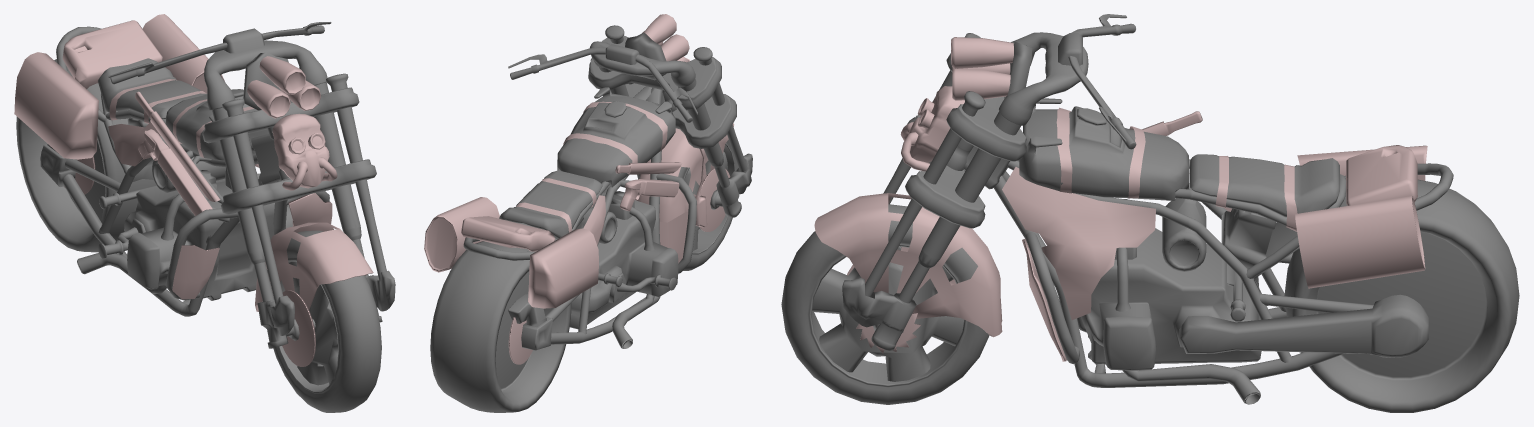
The model's file is motorcycle.glb.
The picture shows the model from 3 angles, left to right: view 1: azimuth 30°, elevation 25°; view 2: azimuth 150°, elevation 25°; view 3: azimuth 270°, elevation 25°; orthographic projection. The views are drawn at different scales.
Parts seen in each view (by area): view 1: polySurface250_lambert1_0, polySurface193_blinn1_0; view 2: polySurface250_lambert1_0, polySurface193_blinn1_0; view 3: polySurface250_lambert1_0, polySurface193_blinn1_0.
Boxes of the visible parts, bbox=[...] form: polySurface250_lambert1_0: bbox=[16, 22, 395, 412]; polySurface193_blinn1_0: bbox=[14, 14, 373, 366]; polySurface250_lambert1_0: bbox=[430, 25, 752, 412]; polySurface193_blinn1_0: bbox=[424, 14, 734, 364]; polySurface250_lambert1_0: bbox=[781, 14, 1519, 412]; polySurface193_blinn1_0: bbox=[814, 37, 1427, 361].
Size of the model in its own units: 5.27 by 7.14 by 13.13.
